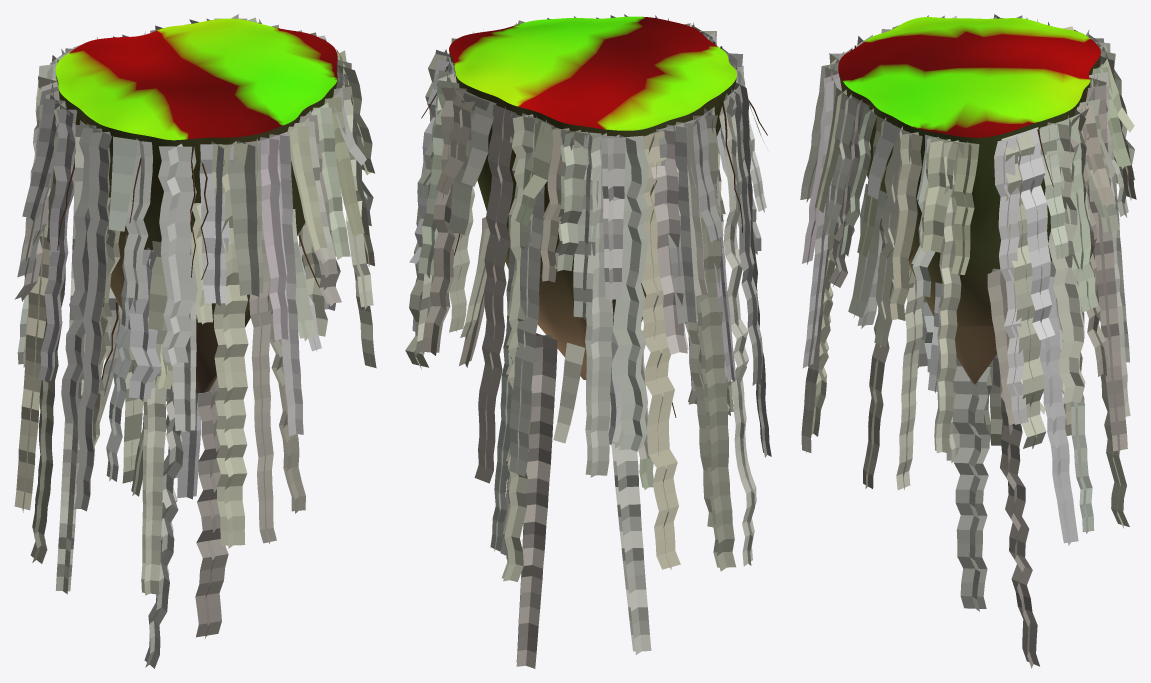
Rendered from SM_H16_Floater07.fbx.
The picture shows the model from 3 angles, left to right: view 1: azimuth 30°, elevation 25°; view 2: azimuth 150°, elevation 25°; view 3: azimuth 270°, elevation 25°; orthographic projection. The views are drawn at different scales.
Visible parts, largest first — view 1: SM_H16_Floater07_Ivy, SM_H16_Floater07; view 2: SM_H16_Floater07_Ivy, SM_H16_Floater07; view 3: SM_H16_Floater07_Ivy, SM_H16_Floater07.
Part boxes in pixels (x1,y1,x2,y2): SM_H16_Floater07_Ivy: [14, 14, 376, 668]; SM_H16_Floater07: [55, 18, 337, 393]; SM_H16_Floater07_Ivy: [405, 14, 771, 668]; SM_H16_Floater07: [449, 16, 736, 379]; SM_H16_Floater07_Ivy: [800, 14, 1136, 668]; SM_H16_Floater07: [838, 17, 1100, 384].
Size of the model in its own units: 21.84 by 38.74 by 20.2.
